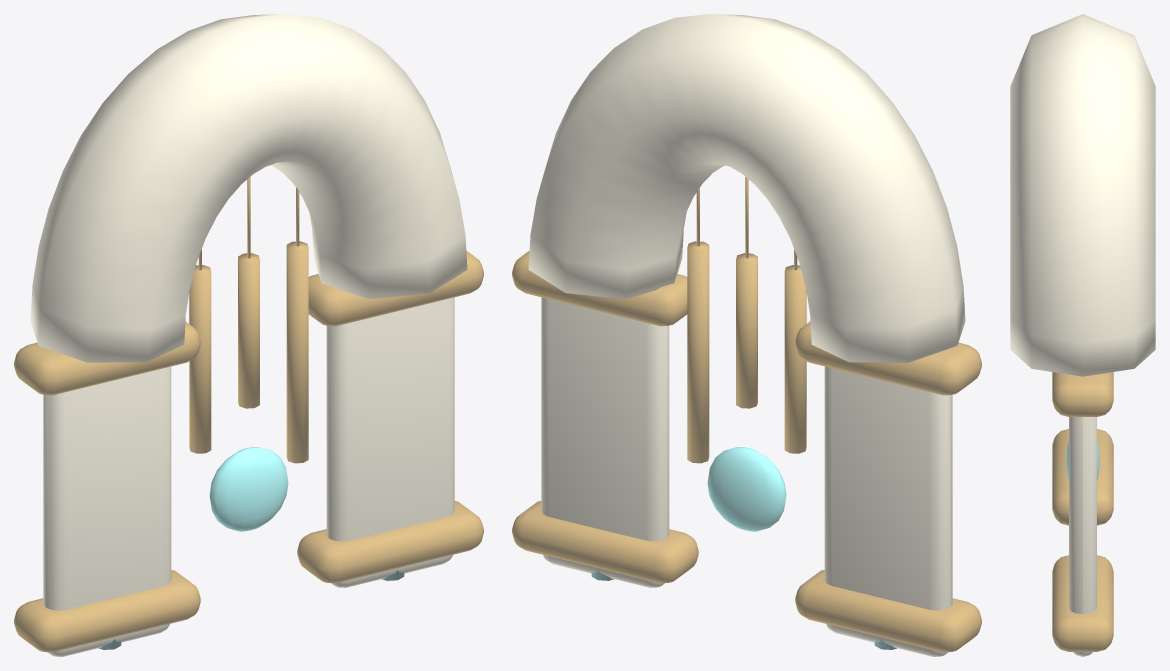
Rendered from sky_chime.glb.
3 views of the same model, side by side, from view 1: azimuth 30°, elevation 25°; view 2: azimuth 150°, elevation 25°; view 3: azimuth 270°, elevation 25° (orthographic). The views are drawn at different scales.
Visible parts, largest first — view 1: sky_chime_surface; view 2: sky_chime_surface; view 3: sky_chime_surface.
Boxes of the visible parts, left/top/right/bottom form: sky_chime_surface: left=14, top=14, right=483, bottom=656; sky_chime_surface: left=512, top=14, right=981, bottom=656; sky_chime_surface: left=1010, top=14, right=1155, bottom=656.
Size of the model in its own units: 2.54 by 3.19 by 0.78.
